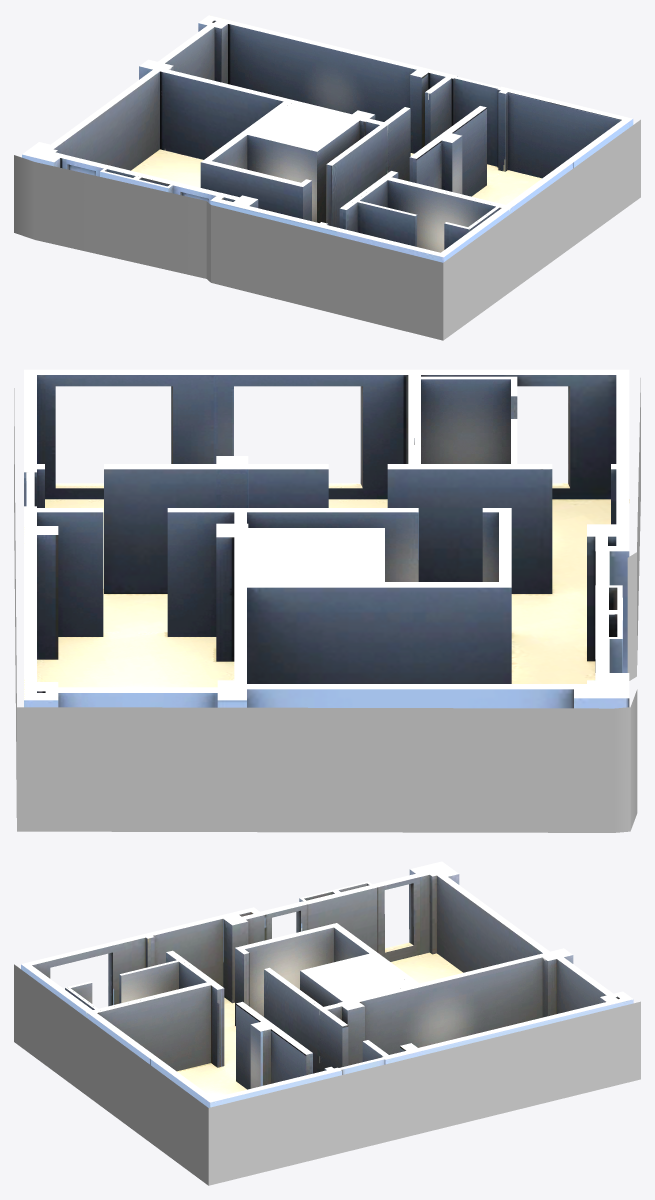
3 views of the same model, one above another, from view 1: azimuth 30°, elevation 25°; view 2: azimuth 150°, elevation 25°; view 3: azimuth 270°, elevation 25° (orthographic). The views are drawn at different scales.
Parts seen in each view (by area): view 1: hd_5floor_wlm_1, hd_5_zoulang_2, hd_5floor_room04_6, hd_5floor_room03_5, hd_5floor_room01_3, hd_5floor_room02_4; view 2: hd_5_zoulang_2, hd_5floor_wlm_1, hd_5floor_room04_6, hd_5floor_room03_5, hd_5floor_room01_3, hd_5floor_room02_4; view 3: hd_5floor_wlm_1, hd_5_zoulang_2, hd_5floor_room04_6, hd_5floor_room03_5, hd_5floor_room01_3, hd_5floor_room02_4.
Boxes of the visible parts, box(x1,y1,x2,y2) form: hd_5floor_wlm_1: box(14, 119, 640, 340); hd_5_zoulang_2: box(22, 69, 510, 262); hd_5floor_room04_6: box(139, 15, 457, 181); hd_5floor_room03_5: box(386, 86, 633, 213); hd_5floor_room01_3: box(206, 101, 384, 225); hd_5floor_room02_4: box(355, 178, 499, 252); hd_5_zoulang_2: box(26, 369, 629, 708); hd_5floor_wlm_1: box(14, 378, 640, 832); hd_5floor_room04_6: box(24, 506, 248, 707); hd_5floor_room03_5: box(24, 369, 414, 590); hd_5floor_room01_3: box(240, 510, 505, 584); hd_5floor_room02_4: box(414, 378, 514, 466); hd_5floor_wlm_1: box(14, 964, 640, 1185); hd_5_zoulang_2: box(21, 861, 549, 1077); hd_5floor_room04_6: box(319, 948, 633, 1071); hd_5floor_room03_5: box(88, 983, 341, 1107); hd_5floor_room01_3: box(240, 925, 417, 1016); hd_5floor_room02_4: box(68, 960, 211, 1010).
Size of the model in its own units: 2.33 by 0.3515 by 2.51.
Materials: 6 (5 with a texture image).
